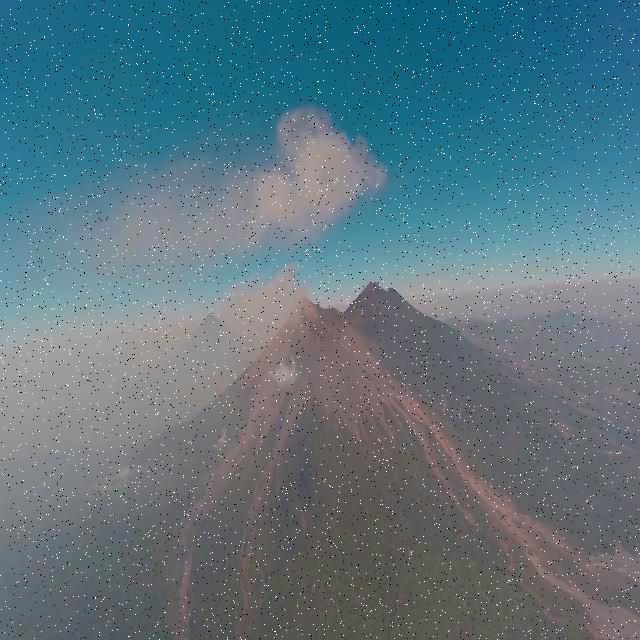Plume: (214, 94, 388, 266)
Summit: (280, 290, 327, 326)
